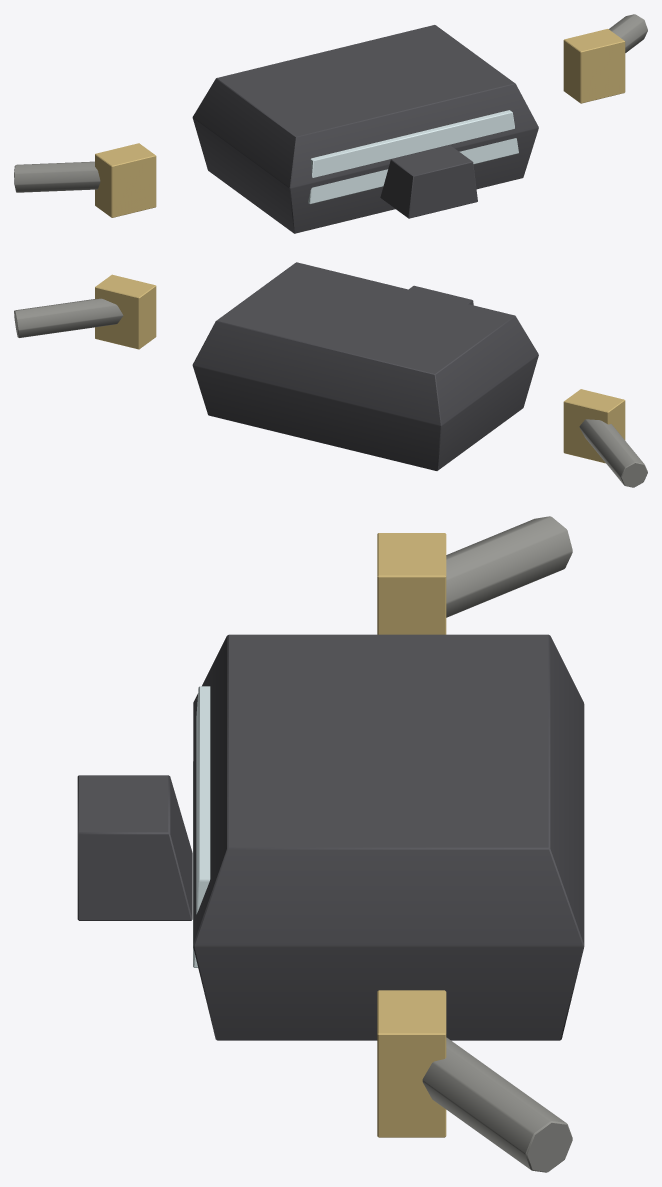
File: IT_diving_mask.fbx
3 renders of one model, top to bottom at view 1: azimuth 30°, elevation 25°; view 2: azimuth 150°, elevation 25°; view 3: azimuth 270°, elevation 25°, orthographic. The views are drawn at different scales.
Visible parts, largest first — view 1: IT_diving_mask; view 2: IT_diving_mask; view 3: IT_diving_mask.
Part boxes in pixels (<box>): IT_diving_mask: <box>14,14,647,233</box>; IT_diving_mask: <box>14,262,647,487</box>; IT_diving_mask: <box>77,516,584,1172</box>.
Size of the model in its own units: 1.27 by 0.18 by 0.4398.
